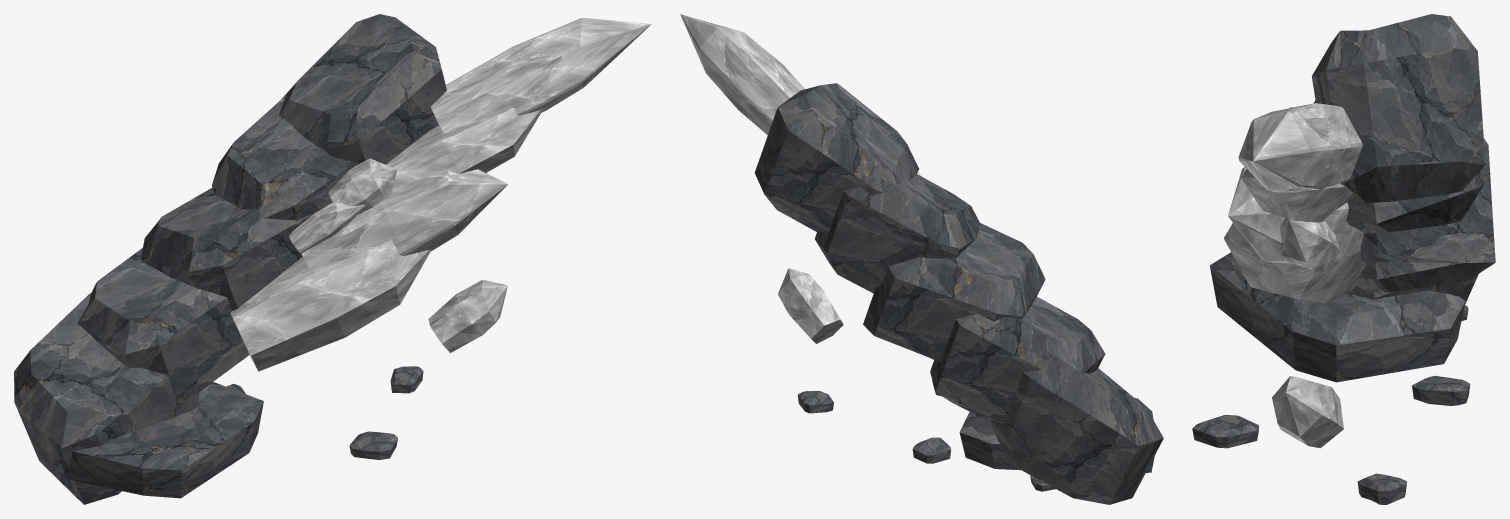
The model's file is Ore_B6.fbx.
3 views of the same model, side by side, from view 1: azimuth 30°, elevation 25°; view 2: azimuth 150°, elevation 25°; view 3: azimuth 270°, elevation 25° (orthographic). The views are drawn at different scales.
Parts seen in each view (by area): view 1: Ore_B6_LOD0; view 2: Ore_B6_LOD0; view 3: Ore_B6_LOD0.
Boxes of the visible parts, box(x1,y1,x2,y2) form: Ore_B6_LOD0: box(14, 14, 651, 504); Ore_B6_LOD0: box(680, 14, 1163, 504); Ore_B6_LOD0: box(1192, 14, 1495, 504).
Size of what is drawn, in the model's own units: 2.84 by 1.84 by 0.986.
Materials: 2 (2 with a texture image).
